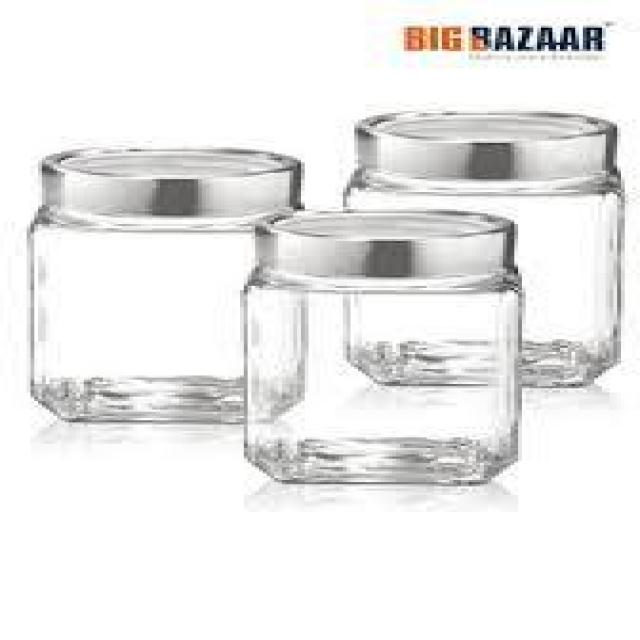non-organic waste: (242, 211, 528, 489)
